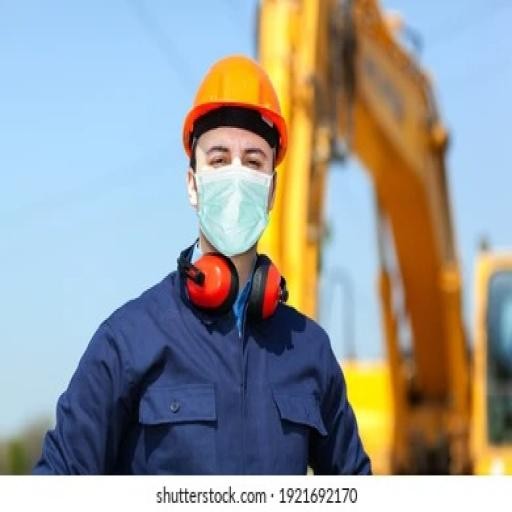mask: (193, 162, 284, 253)
